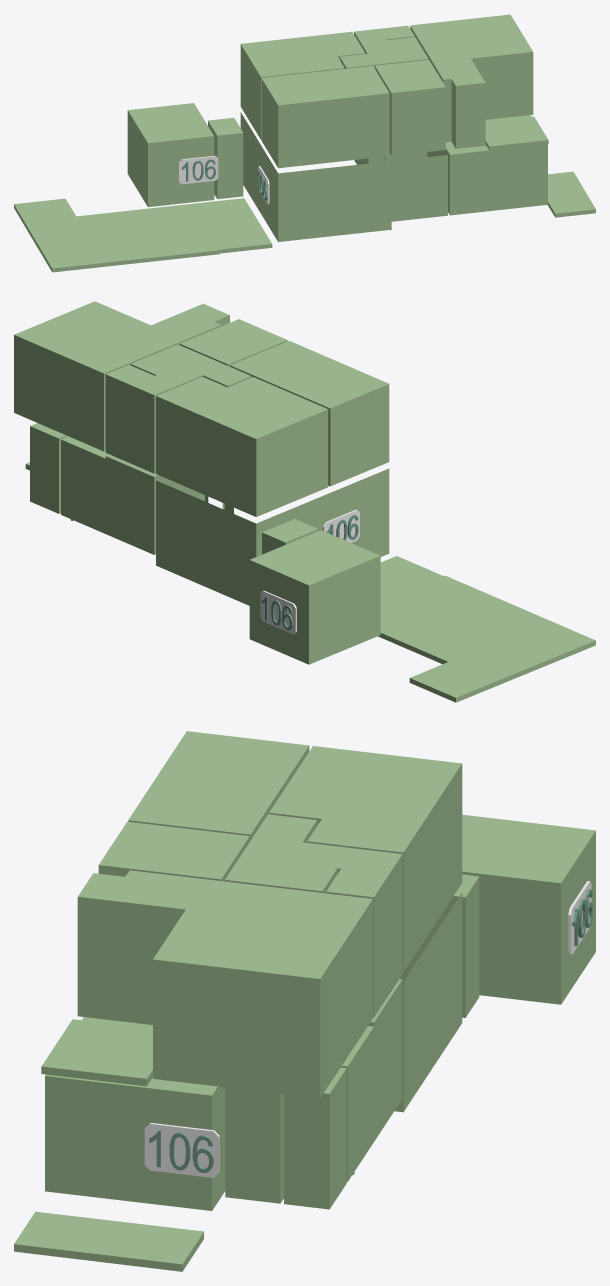
The picture shows the model from 3 angles, top to bottom: view 1: azimuth 30°, elevation 25°; view 2: azimuth 150°, elevation 25°; view 3: azimuth 270°, elevation 25°; orthographic projection. The views are drawn at different scales.
Parts seen in each view (by area): view 1: g_1, g_13, g_7, g_11, g_5, g_0, g_9, g_6, g_4, g_8, g_14, g_12 (+3 smaller); view 2: g_6, g_13, g_11, g_1, g_5, g_7, g_2, g_10, g_9, g_8, g_3, g_4 (+2 smaller); view 3: g_11, g_6, g_5, g_0, g_2, g_7, g_1, g_12, g_3, g_9, g_10, g_8 (+3 smaller).
Part boxes in pixels (<box>): g_1: <box>240,112,447,241</box>; g_13: <box>14,198,272,272</box>; g_7: <box>261,66,389,168</box>; g_11: <box>410,14,533,148</box>; g_5: <box>127,103,214,207</box>; g_0: <box>427,115,547,215</box>; g_9: <box>375,60,445,155</box>; g_6: <box>240,31,365,139</box>; g_4: <box>208,117,243,199</box>; g_8: <box>340,37,428,68</box>; g_14: <box>485,116,548,150</box>; g_12: <box>548,171,595,217</box>; g_6: <box>156,376,328,516</box>; g_13: <box>378,556,595,702</box>; g_11: <box>14,301,229,451</box>; g_1: <box>156,468,389,605</box>; g_5: <box>249,530,380,664</box>; g_7: <box>230,341,389,486</box>; g_2: <box>61,436,204,554</box>; g_10: <box>105,365,180,473</box>; g_9: <box>179,319,287,366</box>; g_8: <box>130,344,251,387</box>; g_3: <box>30,423,67,513</box>; g_4: <box>262,519,318,554</box>; g_11: <box>77,870,372,1098</box>; g_6: <box>269,746,462,971</box>; g_5: <box>462,814,595,1004</box>; g_0: <box>45,1017,225,1210</box>; g_2: <box>225,979,402,1203</box>; g_7: <box>128,731,309,841</box>; g_1: <box>394,893,462,1112</box>; g_12: <box>14,1211,203,1271</box>; g_3: <box>284,1067,346,1209</box>; g_9: <box>98,821,249,881</box>; g_10: <box>326,847,402,1017</box>; g_8: <box>225,814,346,893</box>.
Size of the model in its own units: 19.47 by 5.35 by 10.53.
